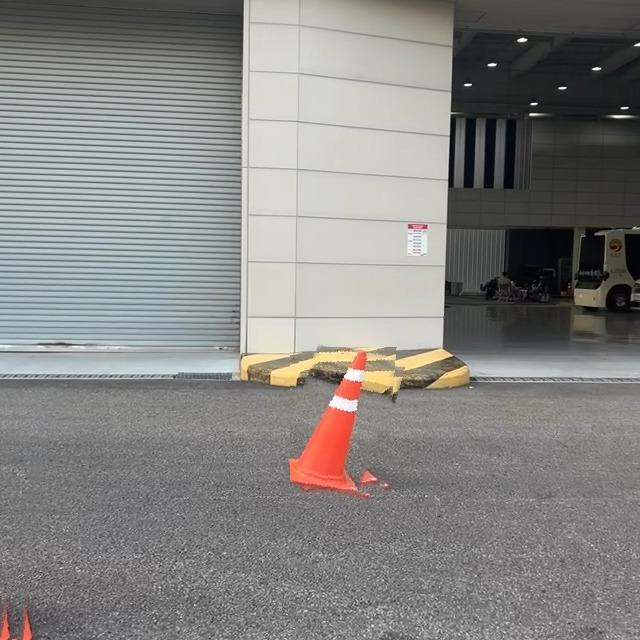fallen_object: (277, 326, 395, 505)
